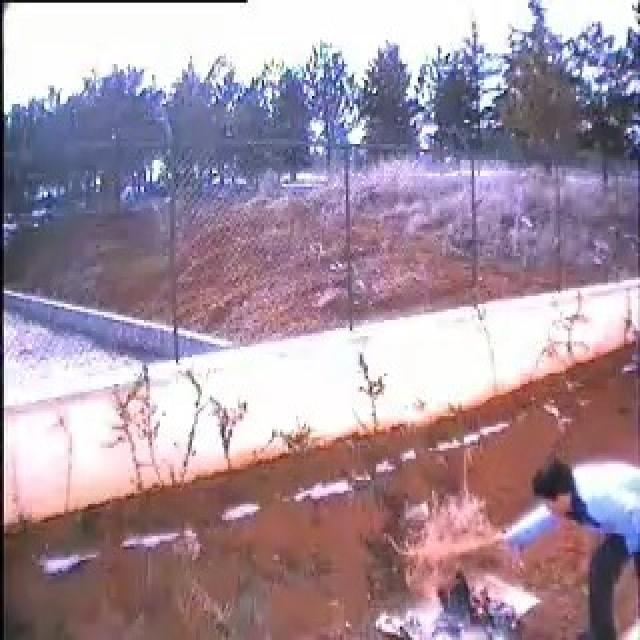fire: (400, 488, 489, 598)
